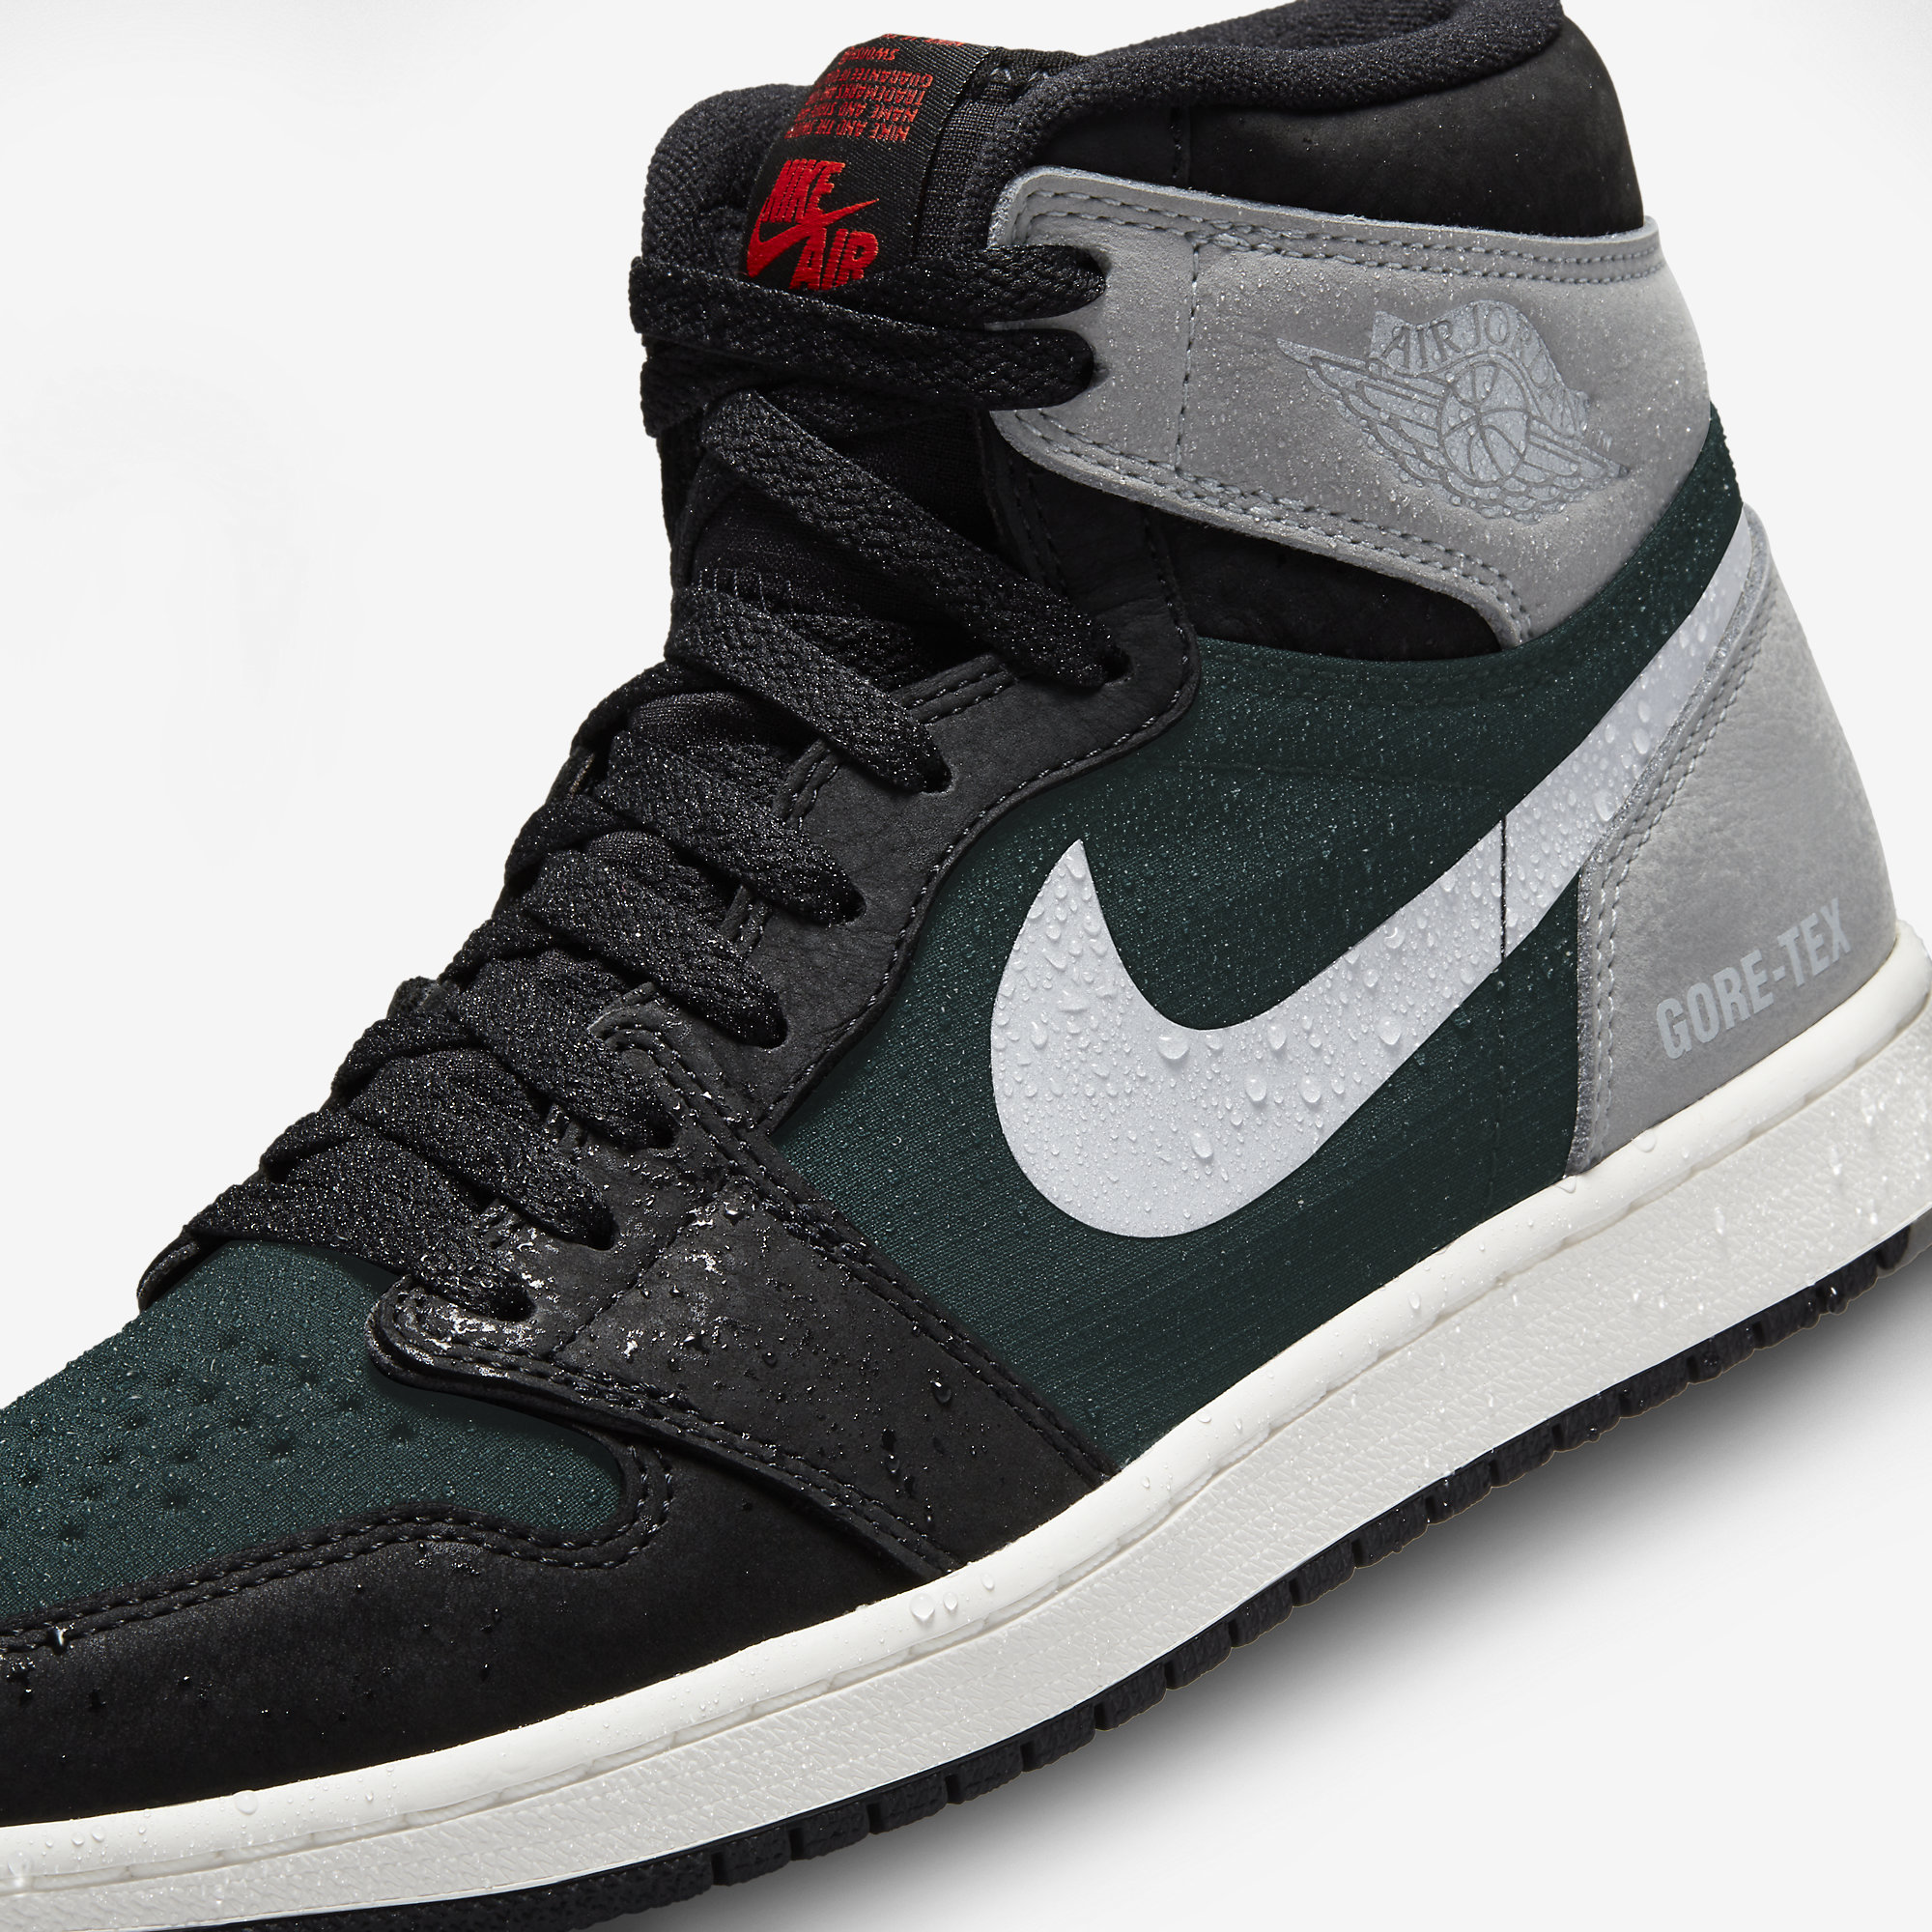Jordan 1: (1, 1, 1922, 1927)
